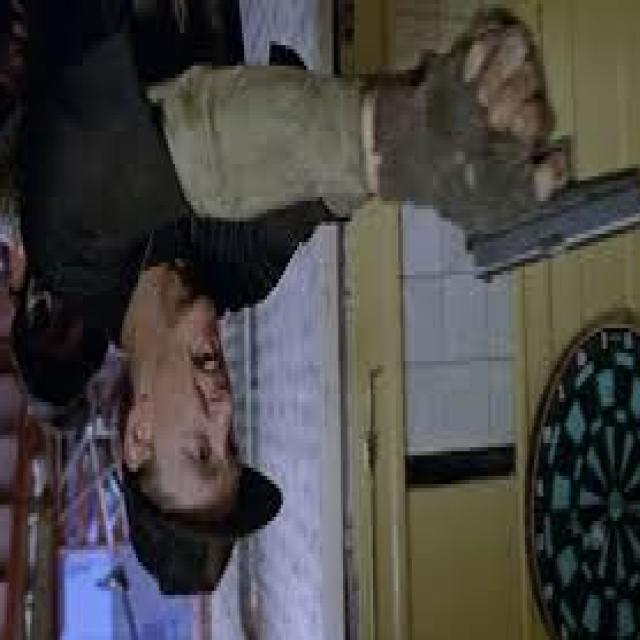gun: (435, 57, 640, 316)
